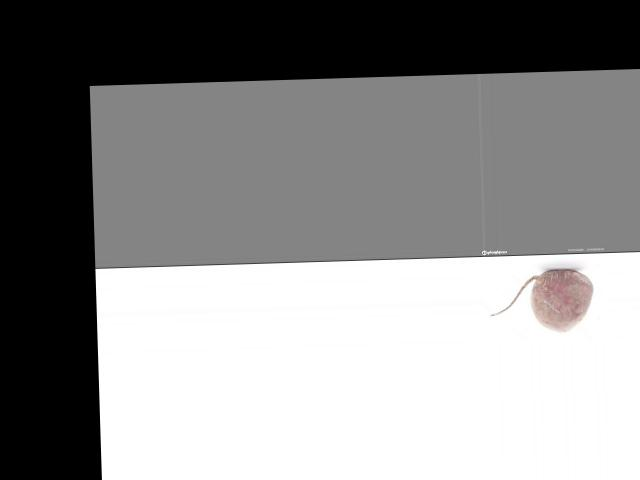beet: (489, 268, 595, 333)
